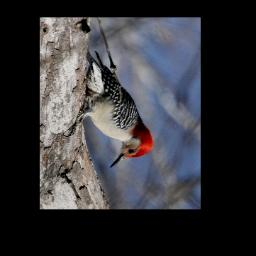Woodpecker: (58, 45, 158, 171)
